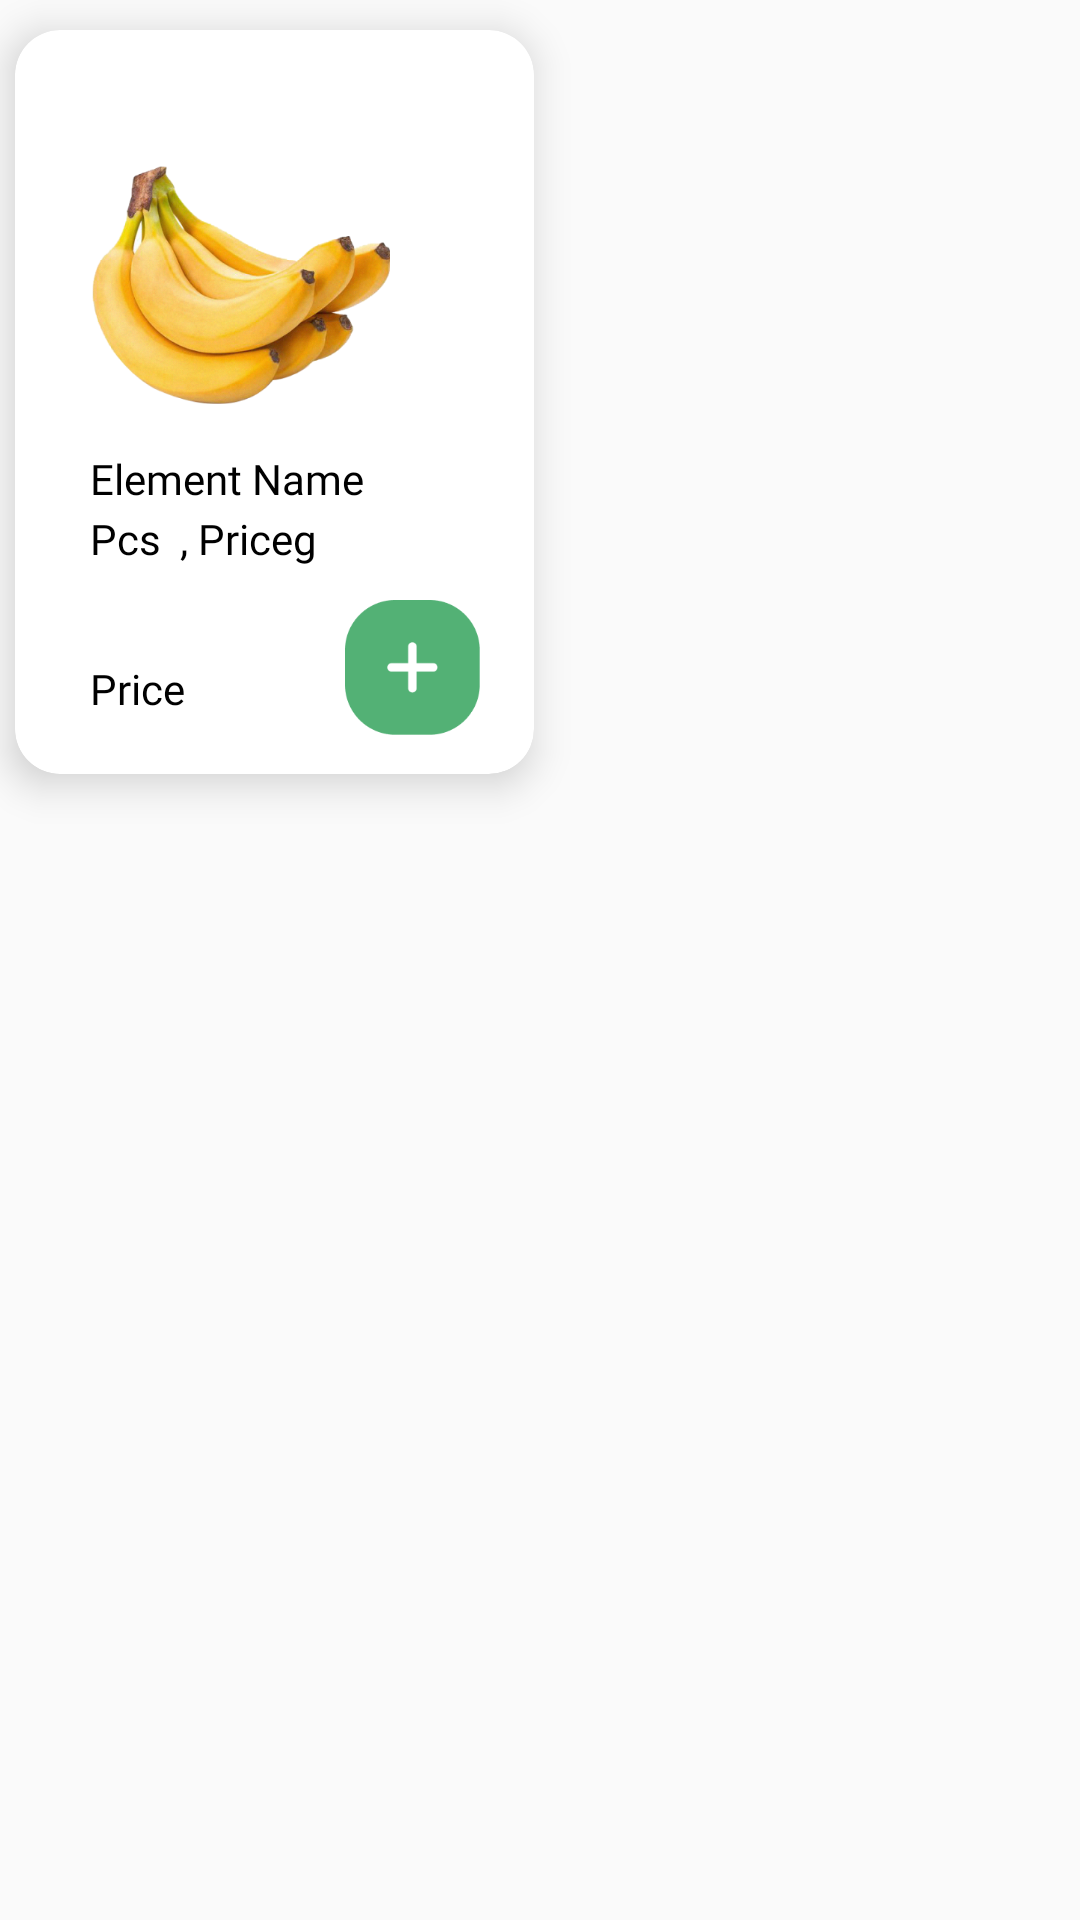

Screen size 1080px×1920px. Icon name, then its box in pixels as {"left": x1, "top": y1, "right": x2, "bottom": y2}:
banana: {"left": 92, "top": 166, "right": 390, "bottom": 404}
greenbutton: {"left": 345, "top": 600, "right": 480, "bottom": 735}
